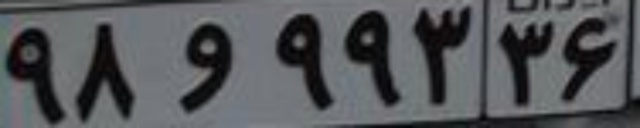3: (412, 4, 476, 107), (498, 21, 551, 104)
6: (557, 16, 618, 100)
8: (70, 24, 136, 120)
9: (4, 26, 63, 123), (276, 13, 335, 109), (342, 9, 400, 106)
vav: (168, 22, 236, 110)
